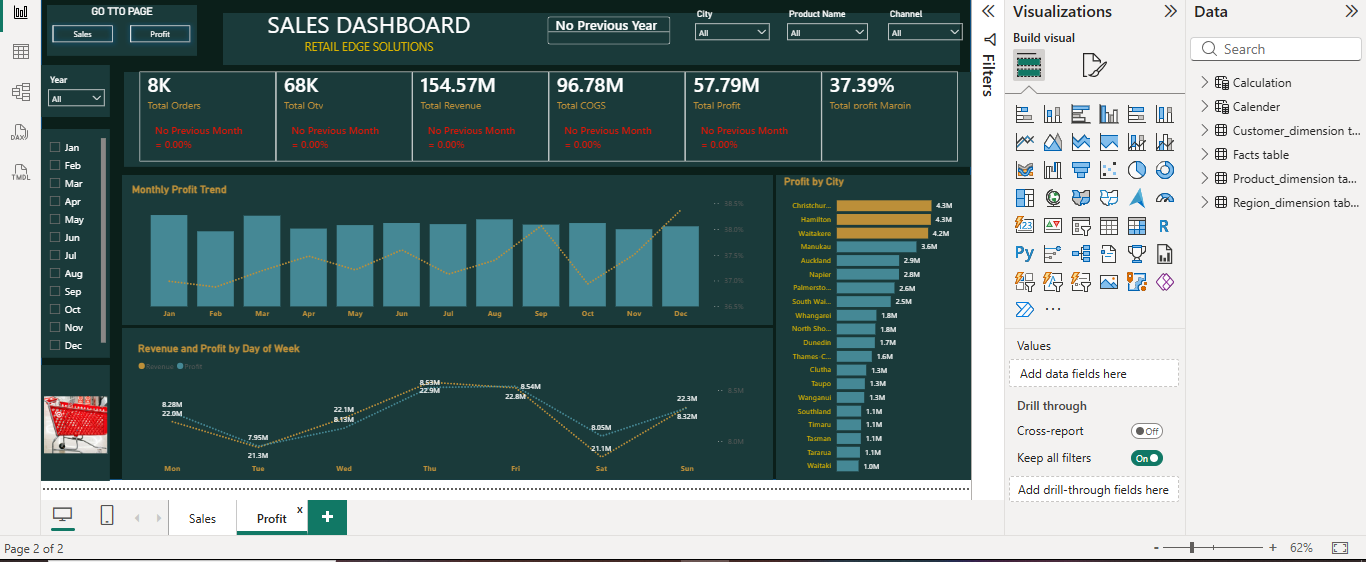

What the dashboard file says about the page in this screenshot:
{"tool":"powerbi","page":{"name":"Profit","canvas":[1500,800],"ordinal":1},"visuals":[{"type":"shape","box":[0,0,1500,787.1],"z":0},{"type":"shape","box":[9.7,21,241.9,82.3],"z":1000},{"type":"shape","box":[0,117.7,111.3,83.9],"z":2000},{"type":"shape","box":[1185.5,295.2,314.5,491.9],"z":3000},{"type":"shape","box":[0,221,111.3,369.4],"z":4000},{"type":"shape","box":[130.6,541.9,1050,245.2],"z":5000},{"type":"shape","box":[130.6,295.2,1050,241.9],"z":6000},{"type":"shape","box":[133.9,129,1366.1,153.2],"z":7000},{"type":"shape","box":[293.5,33.9,1188.7,83.9],"z":8000},{"type":"lineStackedColumnComboChart","title":" Monthly Profit Trend","fields":{"Category":["Calender.Month"],"Y":["Calculation.Profit"],"Y2":["Calculation.Profit Margin"]},"box":[141.9,308.1,1000,229],"z":9000},{"type":"lineChart","fields":{"Category":["Calender.Day of Week"],"Y":["Calculation.Revenue"],"Y2":["Calculation.Profit"]},"box":[151.6,564.5,990.3,222.6],"z":10000},{"type":"clusteredBarChart","fields":{"Category":["Region_dimension table (3).City"],"Y":["Calculation.Profit"]},"box":[1193.5,295.2,306.5,491.9],"z":11000},{"type":"slicer","fields":{"Values":["Calender.Month"]},"box":[1.6,230.6,108.1,351.6],"z":12000},{"type":"slicer","fields":{"Values":["Calender.Year"]},"box":[1.6,129,111.3,61.3],"z":13000},{"type":"slicer","fields":{"Values":["Region_dimension table (3).City"]},"box":[1045.2,22.6,140.3,80.6],"z":14000},{"type":"slicer","fields":{"Values":["Product_dimension table.Product Name"]},"box":[1193.5,22.6,150,80.6],"z":15000},{"type":"slicer","fields":{"Values":["Facts table.Channel"]},"box":[1356.5,22.6,140.3,80.6],"z":16000},{"type":"textbox","box":[308.1,21,441.9,83.9],"z":17000},{"type":"cardVisual","fields":{"Data":["Calculation.Ref_PreviousYear_Revenue"]},"box":[800,22.6,232.3,79],"z":18000},{"type":"pageNavigator","title":"GO TTO PAGE","box":[9.7,21,241.9,69.4],"z":19000},{"type":"shape","box":[0,601.6,111.3,187.1],"z":20000},{"type":"image","box":[4.8,608.1,101.6,180.6],"z":21000},{"type":"cardVisual","fields":{"Data":["Calculation.Total Order","Calculation.Quantity Order","Calculation.Revenue","Calculation.COGS","Calculation.Profit","Calculation.Profit Margin"]},"box":[141.9,111.3,1358.1,179],"z":22000}]}

Visuals, with their boxes on the page's 1500x800 design canvas (x1, y1, x2, y2). These are canvas units, not pixel positions in the 1366x562 screenshot, which may show the page scaled, cropped or inside an application window:
shape: [x1=0, y1=0, x2=1500, y2=787]
shape: [x1=10, y1=21, x2=252, y2=103]
shape: [x1=0, y1=118, x2=111, y2=202]
shape: [x1=1186, y1=295, x2=1500, y2=787]
shape: [x1=0, y1=221, x2=111, y2=590]
shape: [x1=131, y1=542, x2=1181, y2=787]
shape: [x1=131, y1=295, x2=1181, y2=537]
shape: [x1=134, y1=129, x2=1500, y2=282]
shape: [x1=294, y1=34, x2=1482, y2=118]
" Monthly Profit Trend" lineStackedColumnComboChart: [x1=142, y1=308, x2=1142, y2=537]
lineChart - Calender.Day of Week x Calculation.Revenue: [x1=152, y1=564, x2=1142, y2=787]
clusteredBarChart - Region_dimension table (3).City x Calculation.Profit: [x1=1194, y1=295, x2=1500, y2=787]
slicer - Calender.Month: [x1=2, y1=231, x2=110, y2=582]
slicer - Calender.Year: [x1=2, y1=129, x2=113, y2=190]
slicer - Region_dimension table (3).City: [x1=1045, y1=23, x2=1186, y2=103]
slicer - Product_dimension table.Product Name: [x1=1194, y1=23, x2=1344, y2=103]
slicer - Facts table.Channel: [x1=1356, y1=23, x2=1497, y2=103]
textbox: [x1=308, y1=21, x2=750, y2=105]
cardVisual - Calculation.Ref_PreviousYear_Revenue: [x1=800, y1=23, x2=1032, y2=102]
"GO TTO PAGE" pageNavigator: [x1=10, y1=21, x2=252, y2=90]
shape: [x1=0, y1=602, x2=111, y2=789]
image: [x1=5, y1=608, x2=106, y2=789]
cardVisual - Calculation.Total Order x Calculation.Quantity Order: [x1=142, y1=111, x2=1500, y2=290]
